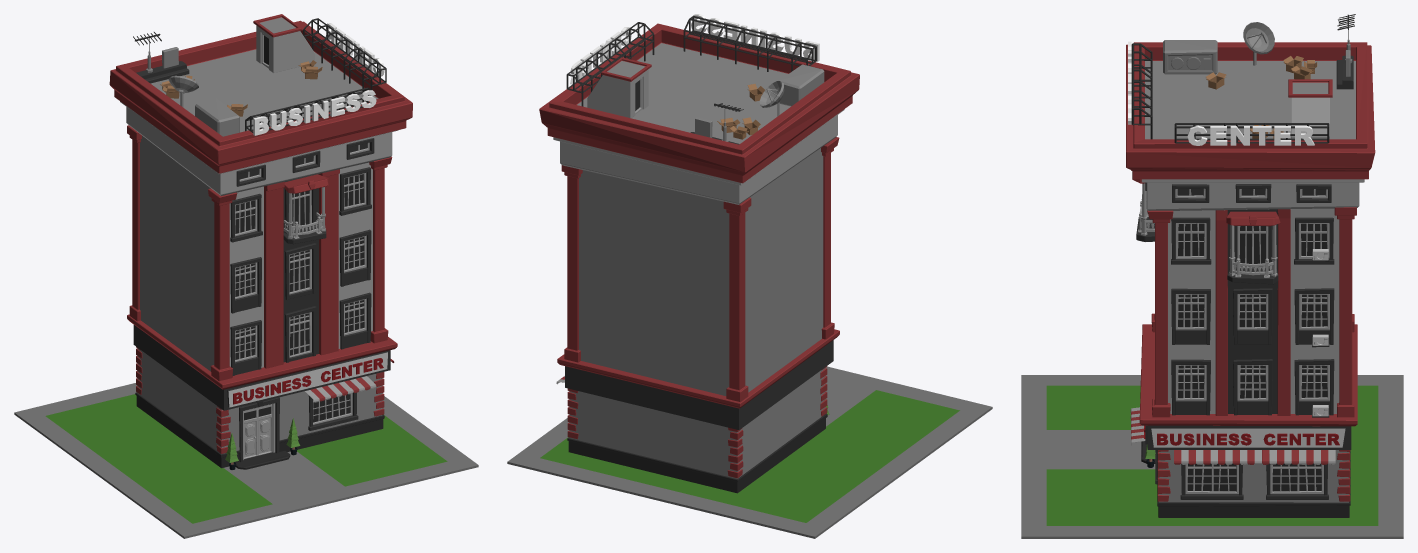
Rendered from business-centre.glb.
3 renders of one model, left to right at view 1: azimuth 30°, elevation 25°; view 2: azimuth 150°, elevation 25°; view 3: azimuth 270°, elevation 25°, orthographic. The views are drawn at different scales.
Visible parts, largest first — view 1: businesscenter; view 2: businesscenter; view 3: businesscenter.
Part boxes in pixels (x1,y1,x2,y2): businesscenter: (14,14,478,538); businesscenter: (507,14,992,538); businesscenter: (1021,14,1403,538).
Size of the model in its own units: 15 by 18.02 by 15.
Materials: 1 (1 with a texture image).
